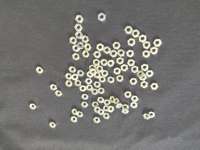nut: (150, 46, 159, 55), (98, 12, 106, 22), (153, 39, 163, 47), (75, 15, 84, 23), (132, 29, 140, 38), (139, 34, 147, 43), (143, 41, 152, 49), (75, 31, 83, 39), (125, 26, 133, 34), (143, 50, 151, 58), (128, 38, 136, 46), (113, 42, 121, 50), (77, 42, 85, 50), (84, 43, 92, 51), (72, 53, 80, 61), (103, 46, 111, 54), (110, 50, 118, 58), (127, 50, 135, 58), (128, 59, 136, 67), (141, 64, 149, 72), (121, 64, 129, 72), (141, 81, 149, 89), (73, 44, 80, 53), (75, 24, 83, 31), (82, 35, 89, 43), (97, 43, 104, 51), (83, 50, 90, 58), (94, 51, 102, 58), (118, 49, 125, 57), (36, 67, 44, 74), (107, 60, 115, 67), (117, 57, 124, 65), (132, 66, 139, 74), (137, 71, 145, 78), (77, 70, 85, 77), (108, 76, 115, 84), (50, 84, 58, 91), (55, 90, 63, 97), (151, 83, 159, 90), (130, 78, 138, 85), (65, 80, 73, 87), (85, 78, 93, 85), (70, 37, 77, 44), (69, 66, 76, 73), (93, 59, 100, 66), (101, 59, 108, 66), (140, 74, 147, 81), (89, 65, 96, 72), (97, 66, 104, 73), (114, 68, 121, 75), (102, 70, 109, 77), (90, 68, 97, 75), (87, 71, 94, 78), (94, 72, 101, 79), (99, 76, 106, 83), (117, 75, 124, 82), (65, 73, 72, 80), (72, 74, 79, 81), (75, 80, 82, 87), (80, 85, 87, 92), (98, 88, 105, 95), (72, 109, 79, 116), (125, 92, 132, 99), (131, 102, 138, 109), (144, 113, 151, 120), (98, 97, 105, 104), (113, 98, 120, 105), (94, 117, 101, 124), (108, 106, 115, 113), (103, 113, 110, 120), (146, 71, 154, 77), (91, 89, 99, 95), (81, 102, 89, 108), (131, 96, 139, 102), (94, 107, 102, 113), (30, 104, 37, 110), (94, 82, 101, 88), (86, 85, 93, 91), (82, 94, 89, 100), (71, 117, 78, 123), (149, 112, 156, 118), (92, 102, 99, 108), (110, 97, 117, 103), (104, 100, 111, 106), (116, 103, 123, 109), (122, 104, 129, 110), (98, 109, 105, 115), (77, 112, 83, 118), (103, 106, 109, 112), (122, 109, 129, 114), (50, 123, 56, 128)
